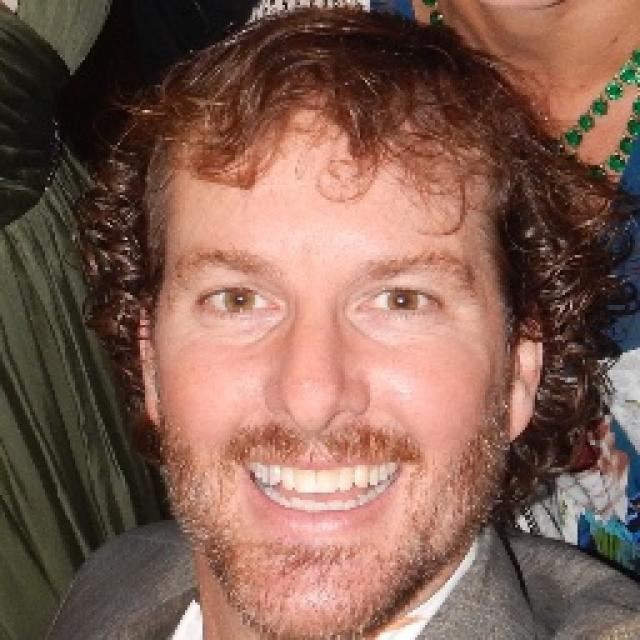earlobe: (504, 386, 534, 444), (140, 380, 164, 430)
eye: (356, 286, 442, 316), (198, 286, 280, 316)
nose: (274, 413, 364, 452)
wholeear: (504, 312, 543, 444), (135, 299, 165, 430)
